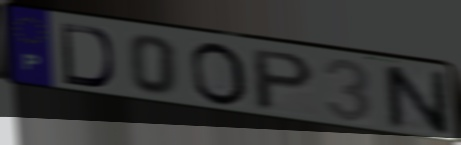0: (125, 32, 182, 99)
3: (322, 58, 377, 126)
D: (58, 21, 117, 90)
N: (378, 63, 453, 137)
O: (188, 40, 251, 109)
P: (250, 47, 317, 113)
